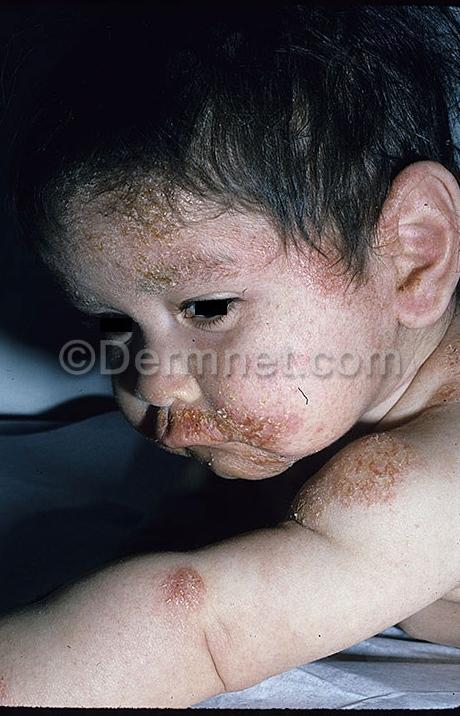eritema 1: (297, 421, 417, 521), (163, 561, 209, 614)
exudacion 3: (155, 401, 302, 449)
exudacion2: (124, 174, 199, 293)
xerosis 1: (427, 334, 460, 417), (159, 559, 205, 615)
xerosis 2: (298, 424, 418, 524), (126, 181, 189, 288), (154, 404, 290, 447)
